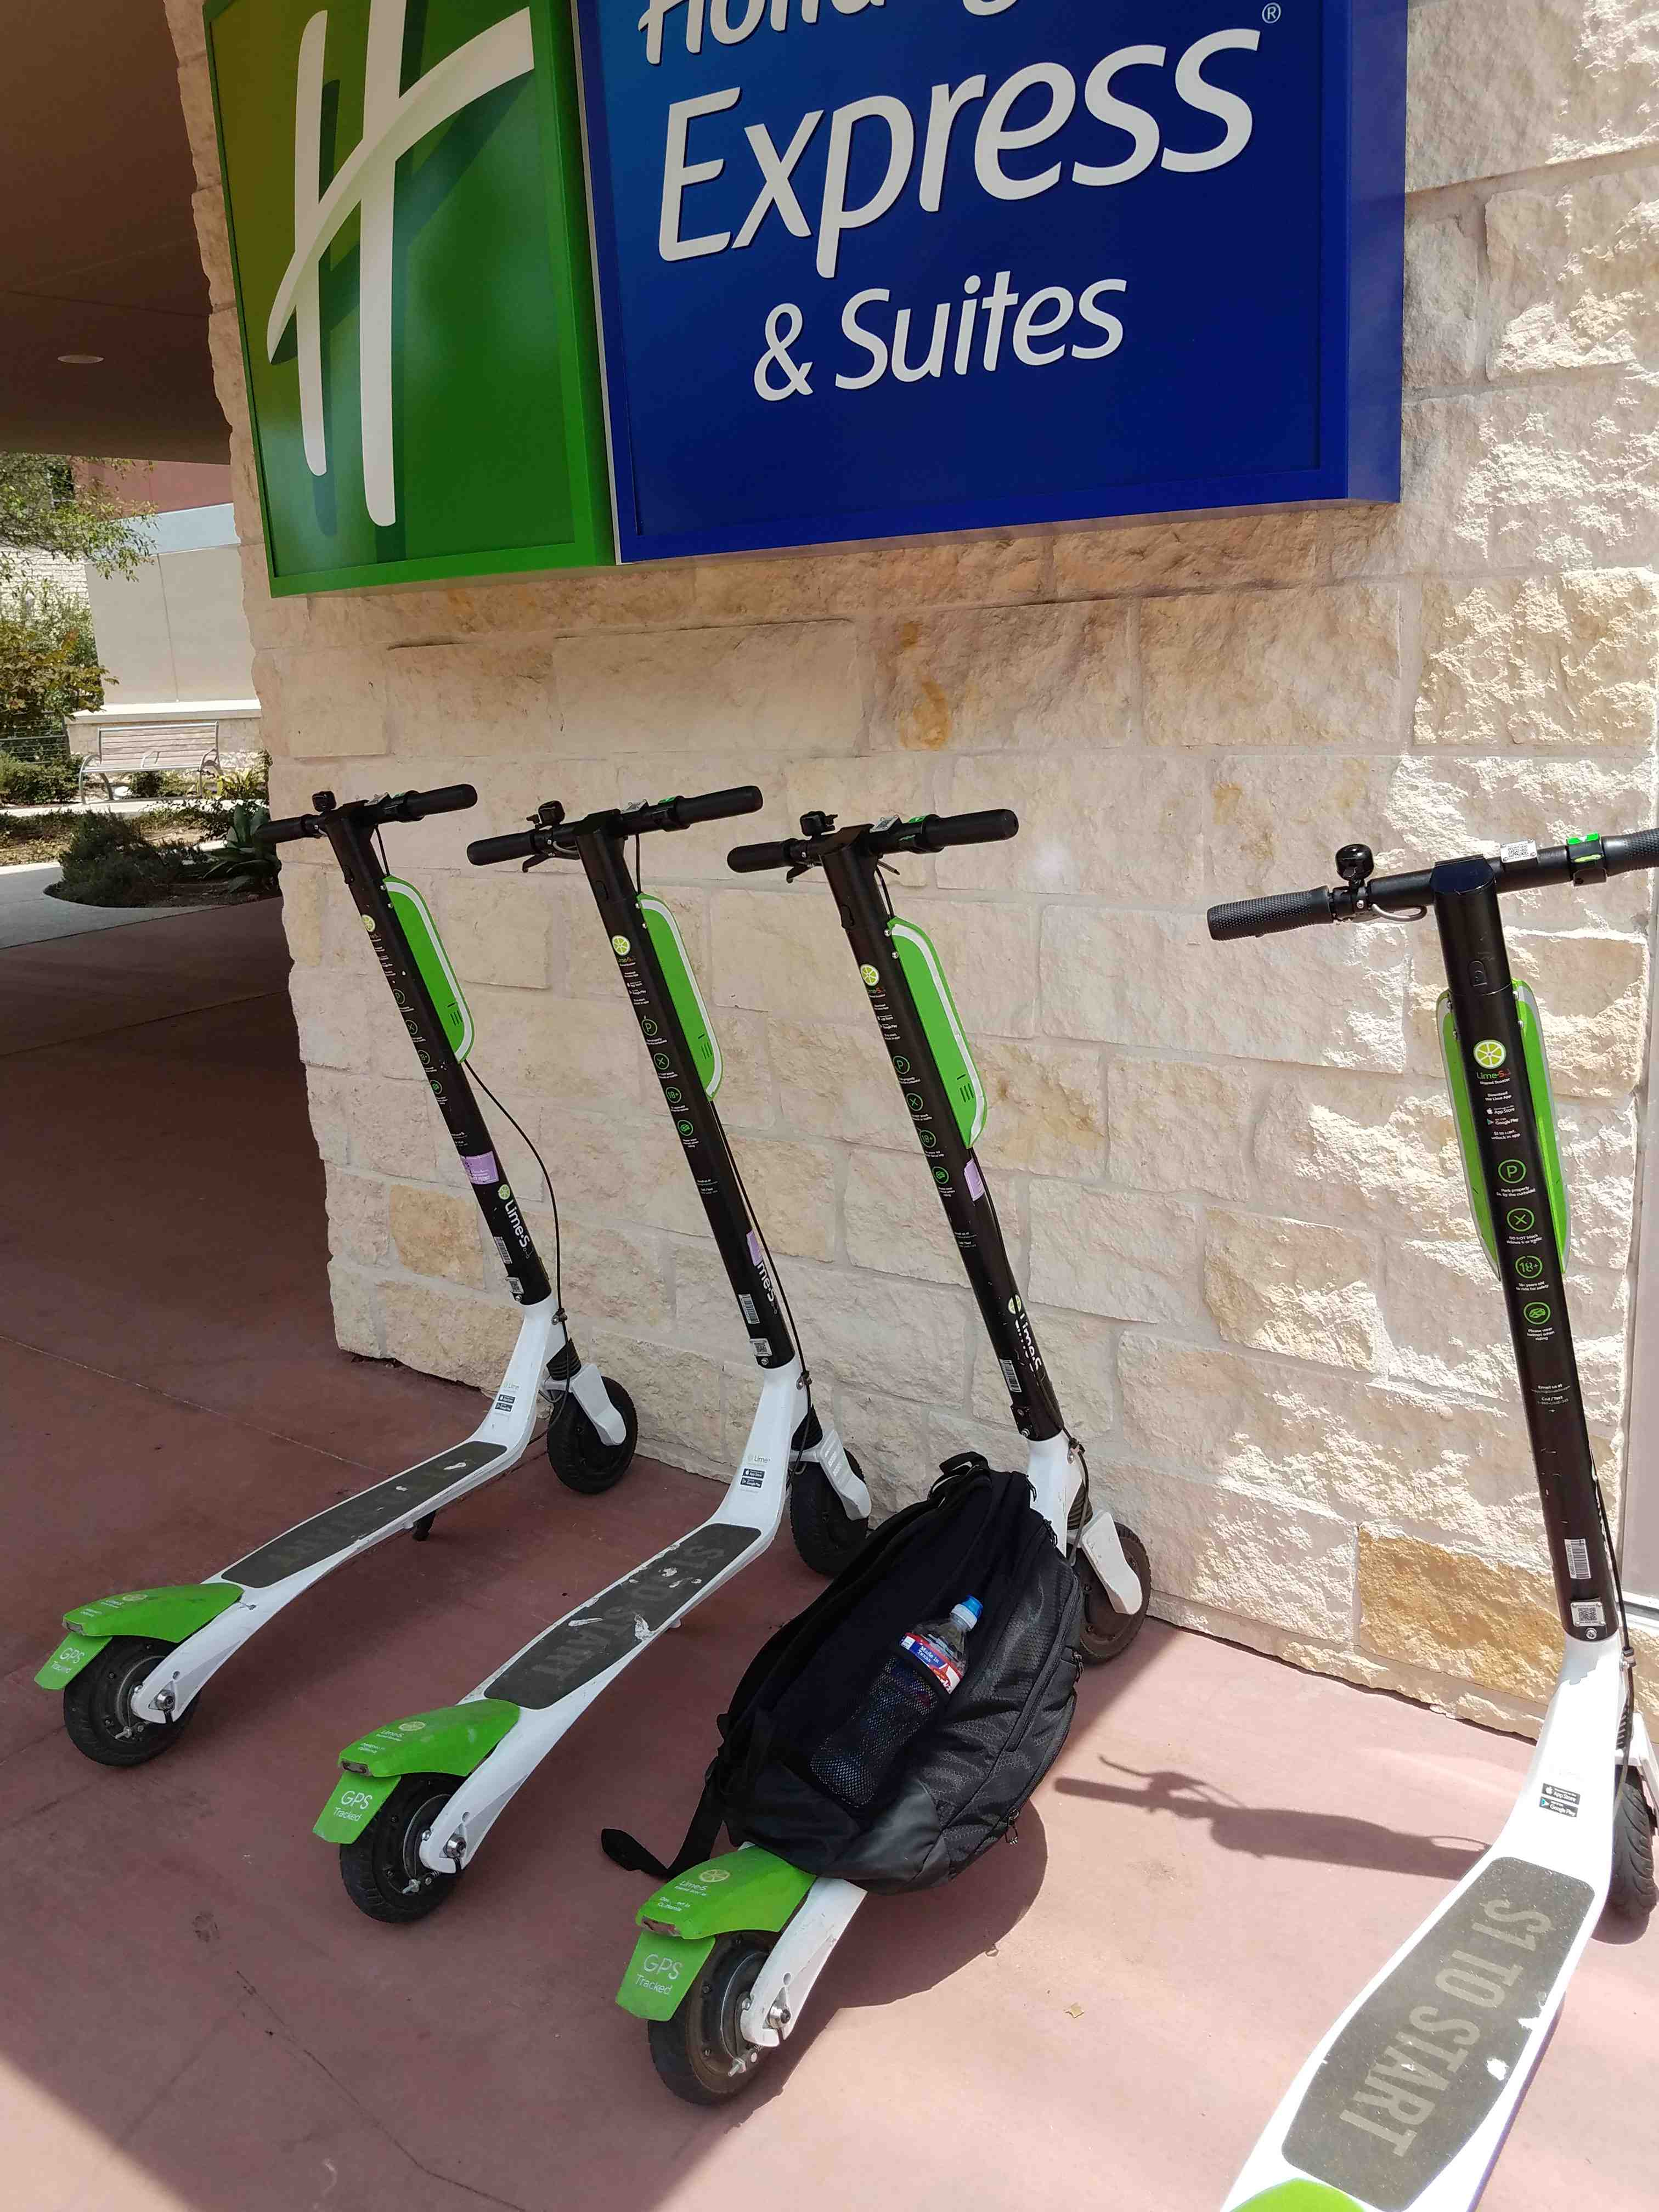scooter: (620, 792, 1166, 2130), (1176, 810, 1659, 2203), (317, 786, 878, 1940), (28, 772, 659, 1789)
